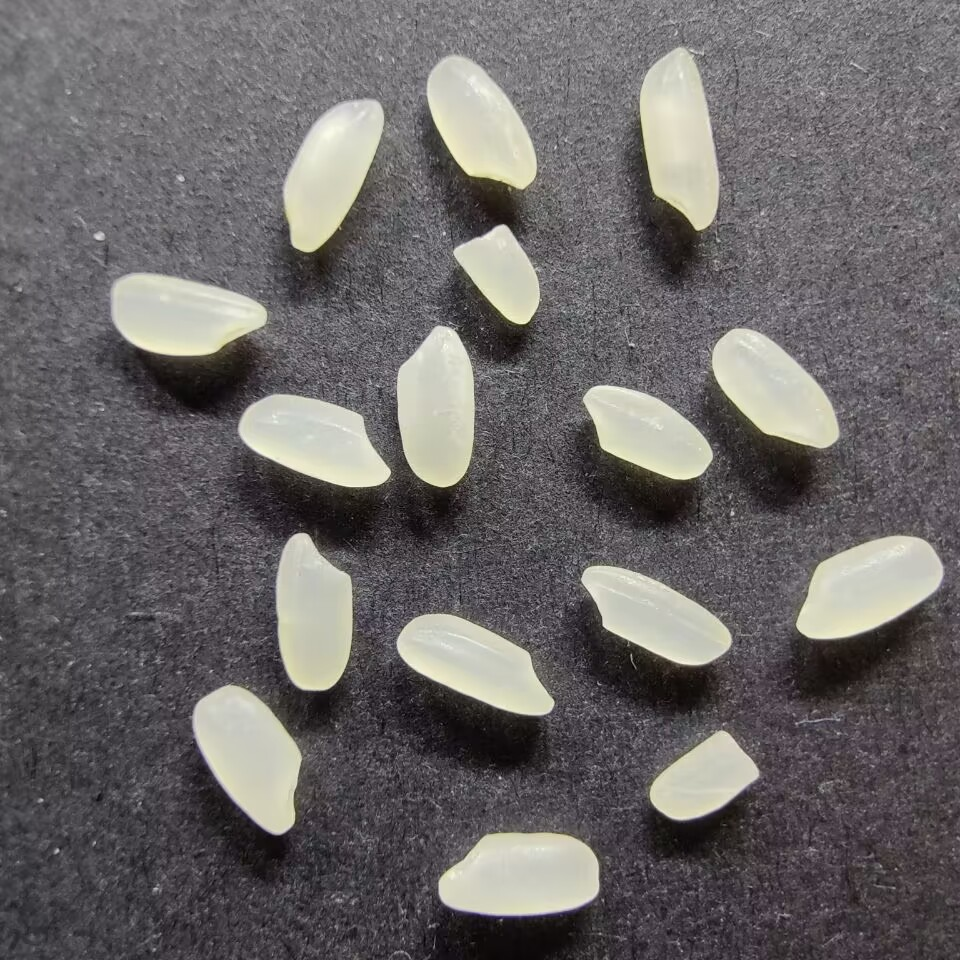broken: (646, 728, 763, 822), (450, 223, 543, 325)
rice: (189, 682, 303, 837), (395, 610, 555, 718), (280, 96, 384, 255), (579, 562, 733, 668), (711, 326, 841, 449), (796, 535, 945, 642), (423, 53, 539, 190), (638, 45, 719, 234), (238, 391, 392, 490), (436, 831, 601, 918), (108, 272, 270, 359), (395, 322, 476, 488), (273, 531, 354, 693), (580, 385, 714, 481)
